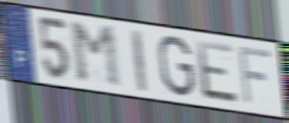5: (37, 14, 72, 84)
E: (193, 38, 241, 107)
F: (237, 44, 274, 108)
G: (156, 34, 197, 99)
I: (129, 27, 149, 95)
M: (67, 21, 124, 91)
